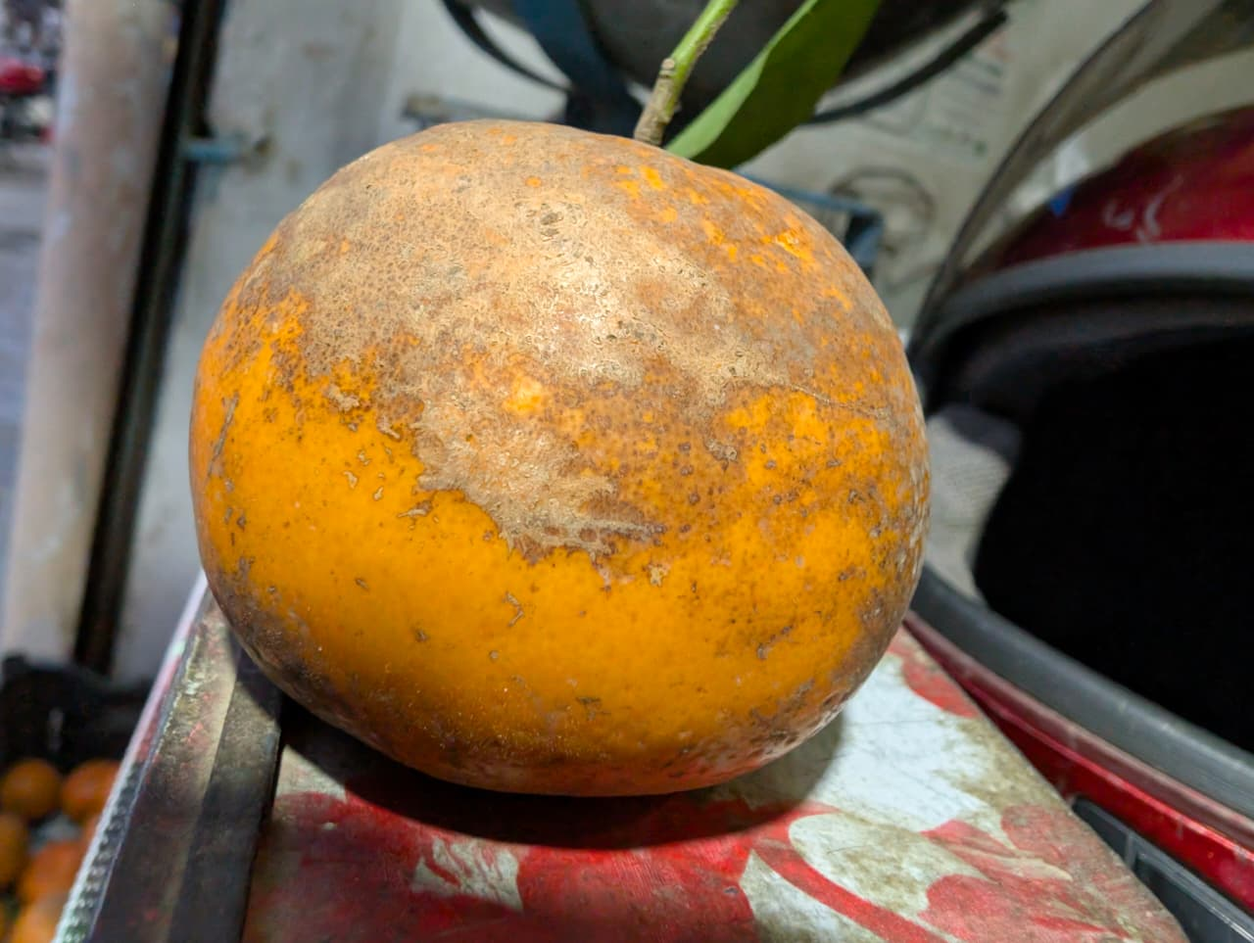orange: (31, 214, 1072, 887)
